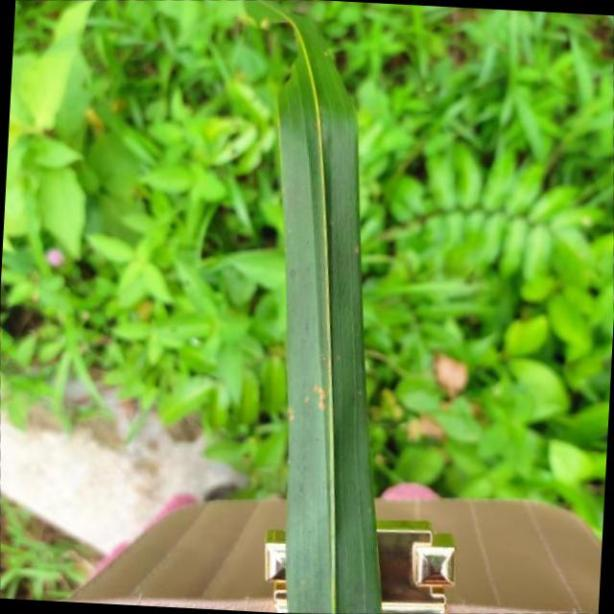Boron: (265, 1, 383, 614)
